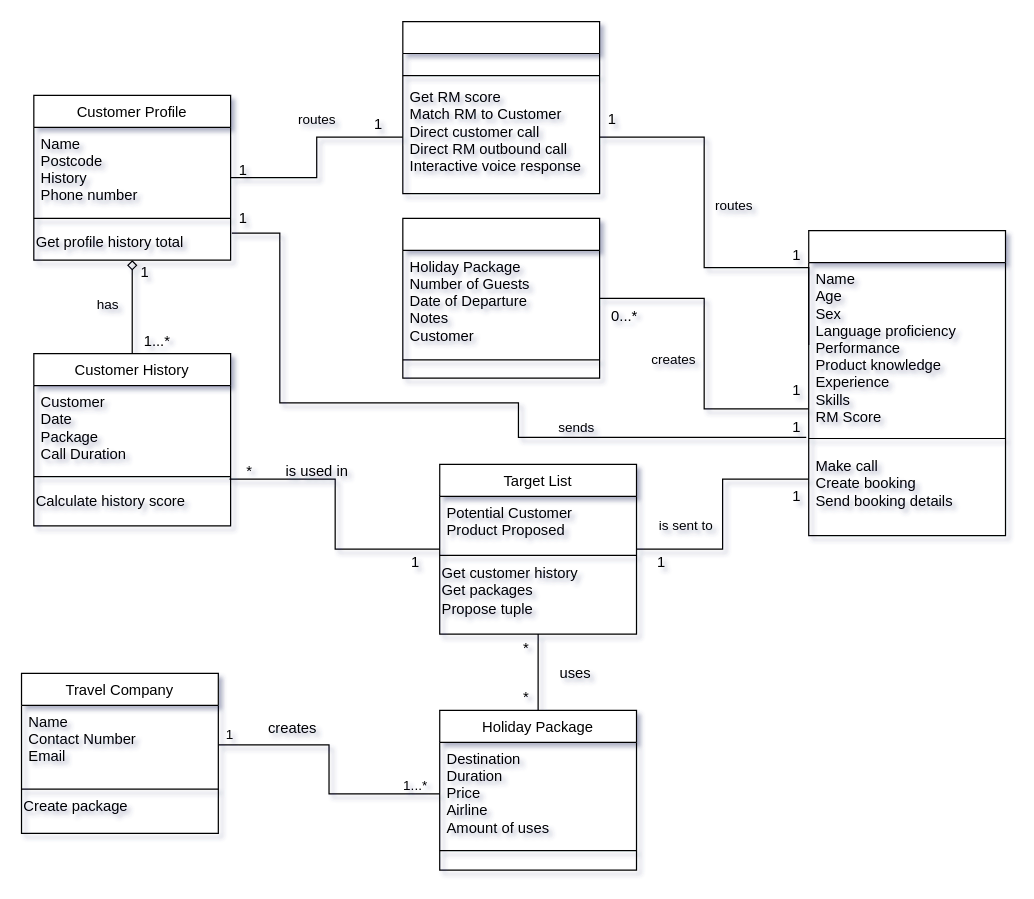
This 1034x899 diagram has some shape labels left out. Each missing label, with the box of its shape:
Booking: (402, 217, 600, 378)
Call Management Centre: (402, 20, 600, 194)
Relationship Manager: (807, 229, 1006, 536)
